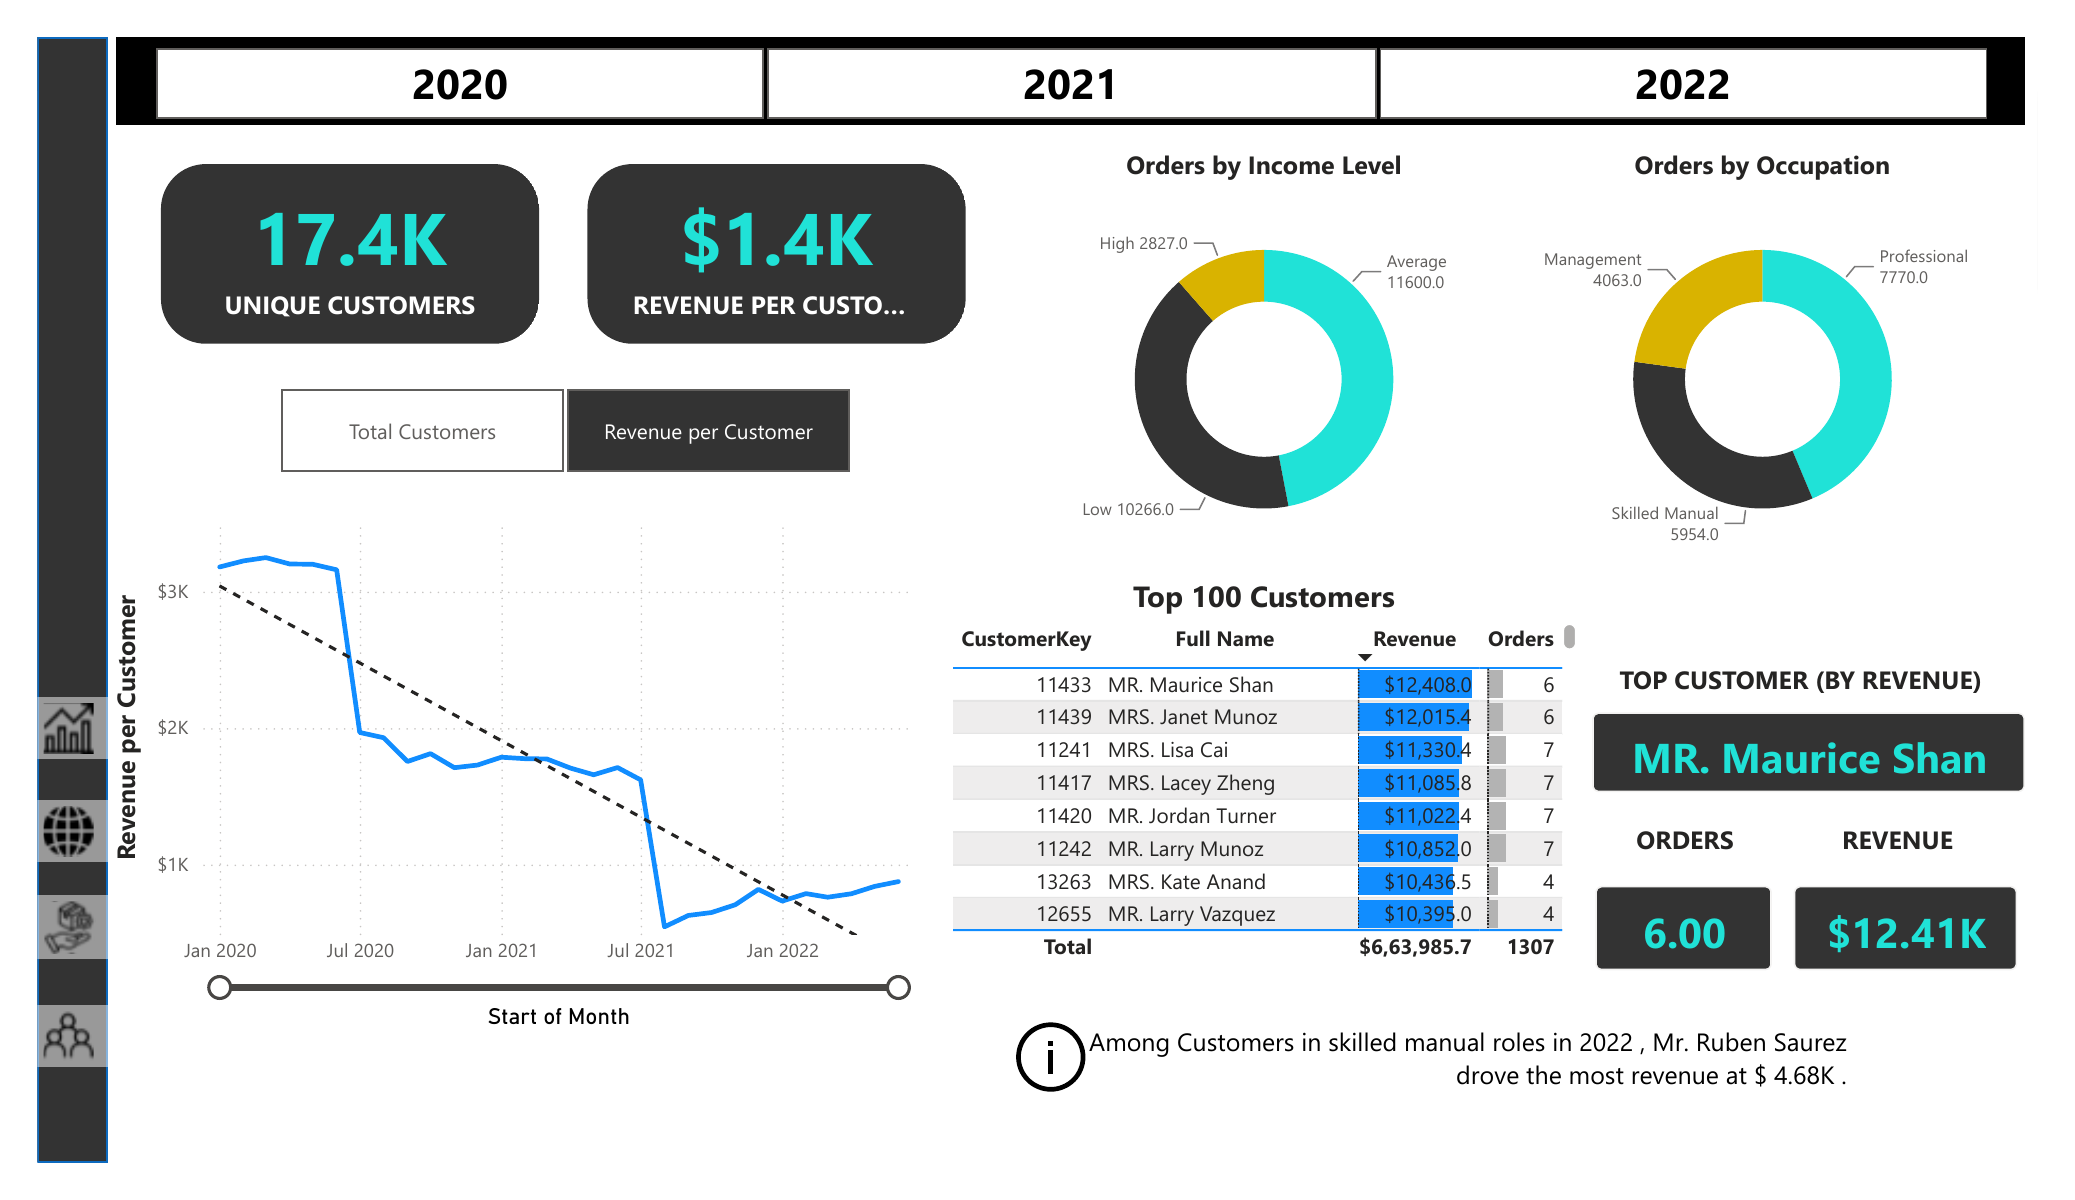

What the dashboard file says about the page in this screenshot:
{"tool":"powerbi","page":{"name":"Customer Details","canvas":[1280,720],"ordinal":3},"visuals":[{"type":"donutChart","title":"Orders by Occupation","fields":{"Category":["Customer Lookup.Occupation"],"Y":["Table Measures.Total orders"]},"box":[958.7,70.9,290,273.3],"z":0},{"type":"cardVisual","fields":{"Data":["Table Measures.Total Customers"]},"box":[79.5,80.7,241.7,115],"z":0,"group":"g3"},{"type":"shape","box":[79.5,80.7,241.7,115],"z":0,"group":"g2"},{"type":"actionButton","box":[0,421.9,45.2,40.4],"z":0,"group":"g4"},{"type":"donutChart","title":"Orders by Income Level","fields":{"Category":["Customer Lookup.Income Level"],"Y":["Table Measures.Total orders"]},"box":[639.5,70.9,290,273.3],"z":1000},{"type":"cardVisual","fields":{"Data":["Table Measures.Average revenue per Customer"]},"box":[352.8,80.7,241.7,115],"z":1000,"group":"g3"},{"type":"shape","box":[352.8,80.7,241.7,115],"z":1000,"group":"g2"},{"type":"actionButton","box":[0,487.9,45.2,40.4],"z":1000,"group":"g4"},{"type":"tableEx","title":"Top 100 Customers","fields":{"Values":["Customer Lookup.CustomerKey","Customer Lookup.Full Name","Table Measures.Total Revenue","Table Measures.Total orders"]},"box":[579.6,344.8,410.9,251.9],"z":2000},{"type":"actionButton","box":[0,549.1,45.2,40.4],"z":2000,"group":"g4"},{"type":"group","id":"g1","title":"KPIs","box":[79.5,80.7,514.8,116.2],"z":3000},{"type":"actionButton","box":[0,618.8,45.2,40.4],"z":3000,"group":"g4"},{"type":"lineChart","fields":{"Category":["Calendar Lookup.Start of Month"],"Y":["Table Measures.Average revenue per Customer"]},"box":[45.2,297.1,534.4,342.4],"z":4000},{"type":"cardVisual","fields":{"Data":["Table Measures.Full name (Customer Details)"]},"box":[995,431.7,276.7,51.7],"z":5000},{"type":"cardVisual","fields":{"Data":["Calendar Lookup.Total Orders (Customer Detail)"]},"box":[996.7,543.3,113.3,53.3],"z":6000},{"type":"group","id":"g2","title":"KPI Card","box":[79.5,80.7,515,115],"z":7000,"group":"g1"},{"type":"cardVisual","fields":{"Data":["Table Measures.Total Revenue (Customer Details)"]},"box":[1123.8,542.9,143.1,53.8],"z":7000},{"type":"group","id":"g3","title":"KPI Value","box":[79.5,80.7,515,115],"z":8000,"group":"g1"},{"type":"textbox","box":[990,395,276.7,36.7],"z":8000},{"type":"textbox","box":[1133.3,498.3,115,36.7],"z":9000},{"type":"textbox","box":[1006.7,498.3,95,36.7],"z":10000},{"type":"slicer","fields":{"Values":["Calendar Lookup.Year"]},"box":[50.1,0,1221.6,56.3],"z":11000},{"type":"actionButton","box":[620,623.6,541.7,57.5],"z":12000},{"type":"actionButton","box":[0,3.7,45.5,48.4],"z":13000},{"type":"shape","title":"Left nav Bar","box":[0,0,45,720],"z":14000},{"type":"group","id":"g4","title":"Custom Nevigation Buttons ","box":[0,421.9,45.2,237.2],"z":15000},{"type":"slicer","fields":{"Values":["Customer Matric Selection.Customer Matric Selection"]},"box":[129.6,217.7,414.5,67.3],"z":16000}]}

Visuals, with their boxes on the page's 1280x720 design canvas (x1, y1, x2, y2). These are canvas units, not pixel positions in the 2075x1200 screenshot, which may show the page scaled, cropped or inside an application window:
"Orders by Occupation" donutChart: region(959, 71, 1249, 344)
cardVisual - Table Measures.Total Customers: region(80, 81, 321, 196)
shape: region(80, 81, 321, 196)
actionButton: region(0, 422, 45, 462)
"Orders by Income Level" donutChart: region(640, 71, 930, 344)
cardVisual - Table Measures.Average revenue per Customer: region(353, 81, 594, 196)
shape: region(353, 81, 594, 196)
actionButton: region(0, 488, 45, 528)
"Top 100 Customers" tableEx: region(580, 345, 990, 597)
actionButton: region(0, 549, 45, 590)
"KPIs" group: region(80, 81, 594, 197)
actionButton: region(0, 619, 45, 659)
lineChart - Calendar Lookup.Start of Month x Table Measures.Average revenue per Customer: region(45, 297, 580, 640)
cardVisual - Table Measures.Full name (Customer Details): region(995, 432, 1272, 483)
cardVisual - Calendar Lookup.Total Orders (Customer Detail): region(997, 543, 1110, 597)
"KPI Card" group: region(80, 81, 594, 196)
cardVisual - Table Measures.Total Revenue (Customer Details): region(1124, 543, 1267, 597)
"KPI Value" group: region(80, 81, 594, 196)
textbox: region(990, 395, 1267, 432)
textbox: region(1133, 498, 1248, 535)
textbox: region(1007, 498, 1102, 535)
slicer - Calendar Lookup.Year: region(50, 0, 1272, 56)
actionButton: region(620, 624, 1162, 681)
actionButton: region(0, 4, 46, 52)
"Left nav Bar" shape: region(0, 0, 45, 720)
"Custom Nevigation Buttons " group: region(0, 422, 45, 659)
slicer - Customer Matric Selection.Customer Matric Selection: region(130, 218, 544, 285)
